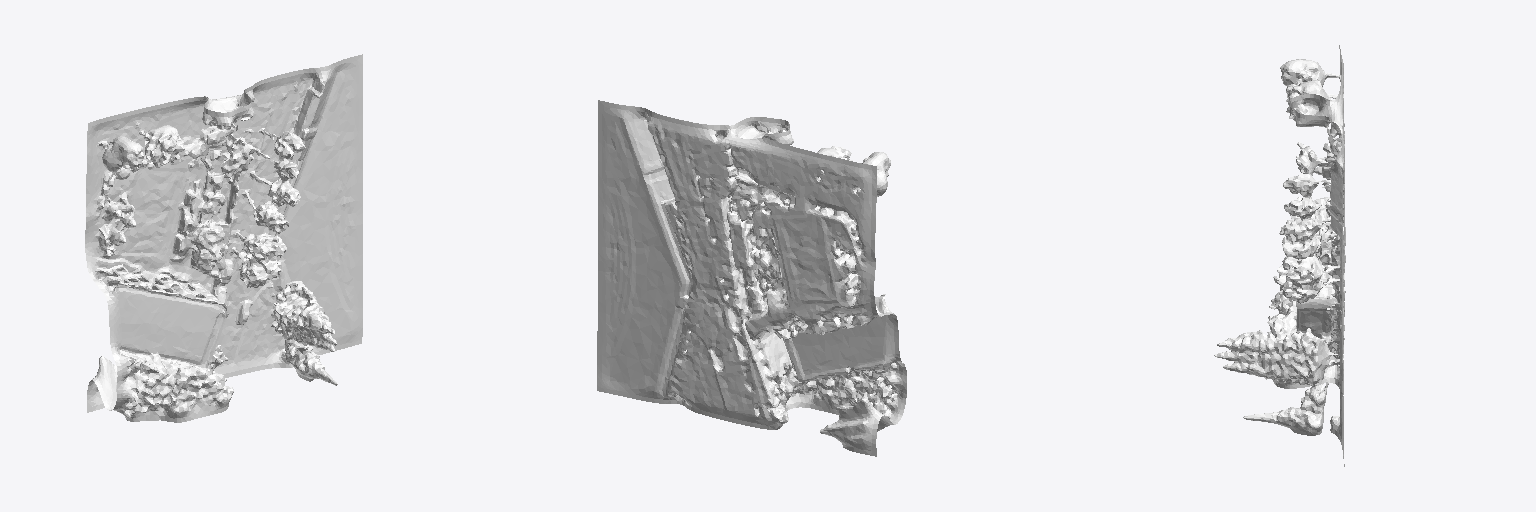
File: Tile16.obj
The picture shows the model from 3 angles: view 1: azimuth 30°, elevation 25°; view 2: azimuth 150°, elevation 25°; view 3: azimuth 270°, elevation 25°; orthographic projection.
Bounding box in the file's own units: 58.02 × 58.02 × 23.93.